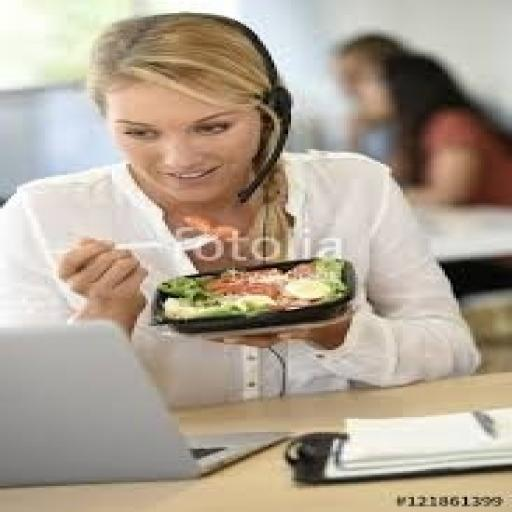eating: (0, 11, 484, 406), (322, 32, 509, 292)
